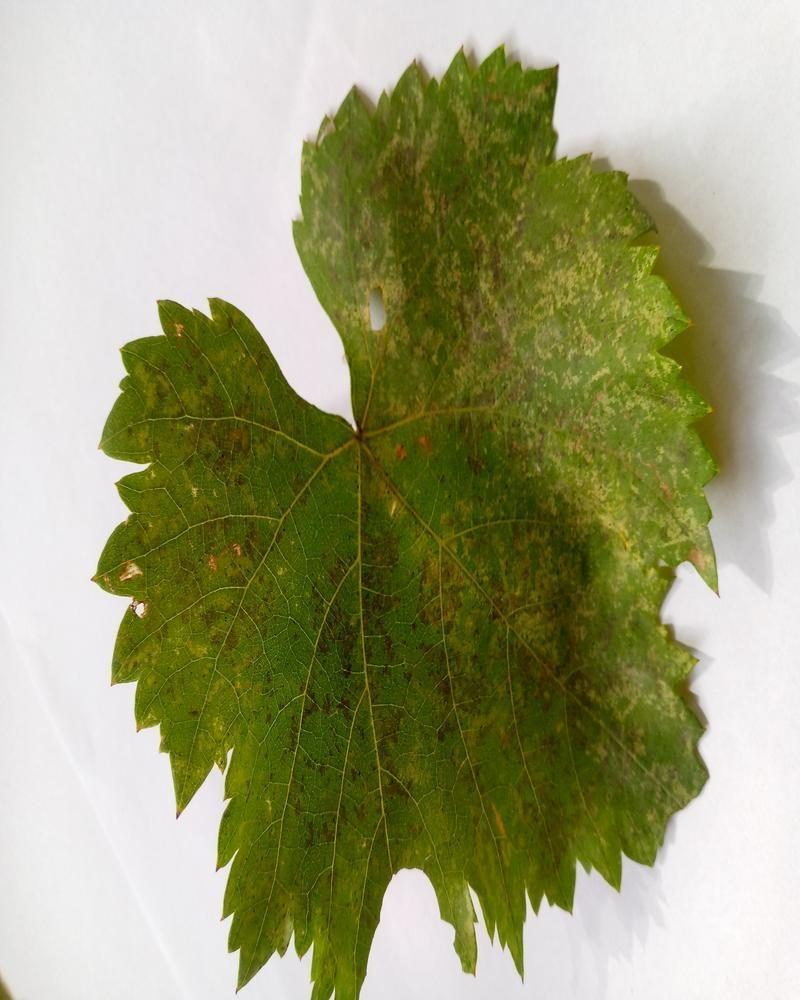Powdery-Mildew: (516, 224, 665, 401), (546, 439, 711, 577), (352, 113, 459, 241), (346, 248, 426, 353), (421, 541, 484, 604), (620, 664, 683, 727)
